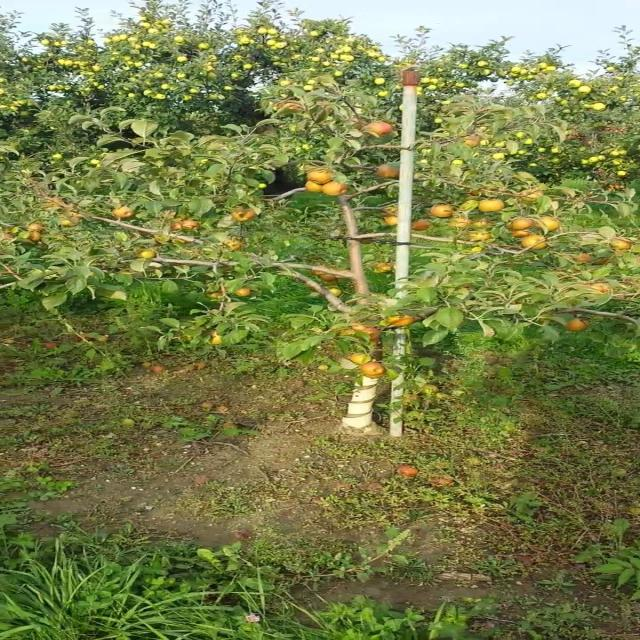apple: (360, 361, 387, 378), (364, 121, 393, 136), (520, 235, 547, 250), (307, 169, 333, 184), (387, 315, 416, 328), (322, 181, 347, 196), (518, 188, 544, 202), (376, 164, 400, 179), (536, 216, 560, 231), (231, 208, 256, 222), (273, 100, 304, 111), (478, 199, 504, 212), (429, 204, 453, 218), (564, 318, 589, 331), (111, 206, 136, 219), (507, 218, 533, 230), (58, 214, 82, 227), (360, 326, 380, 341), (349, 352, 371, 365), (222, 238, 244, 251), (411, 219, 433, 231), (611, 238, 633, 250), (469, 230, 493, 241), (449, 216, 471, 228), (178, 219, 200, 230), (373, 262, 393, 274), (462, 135, 480, 148), (591, 282, 611, 293), (471, 218, 493, 228), (138, 249, 158, 259), (204, 289, 224, 299), (304, 181, 322, 192), (209, 330, 222, 345), (573, 252, 591, 262), (382, 215, 398, 226), (27, 221, 44, 231), (27, 231, 42, 242), (233, 288, 251, 297), (511, 230, 531, 238), (311, 266, 327, 276), (382, 205, 398, 215), (171, 238, 193, 245), (320, 274, 338, 282), (0, 232, 16, 241), (338, 329, 356, 336), (591, 258, 609, 265), (351, 324, 369, 331), (329, 288, 342, 296), (0, 231, 13, 239), (171, 221, 182, 229)
